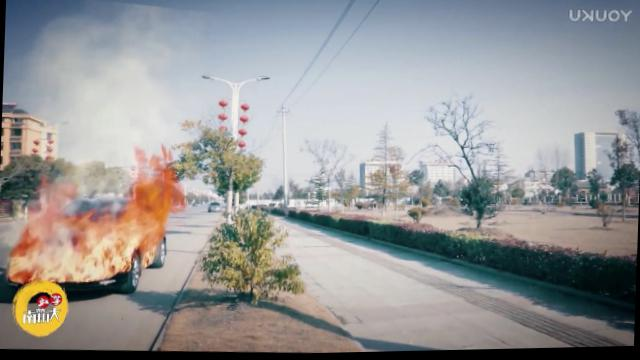fire: (11, 211, 136, 285), (134, 176, 164, 247), (161, 165, 186, 215), (150, 148, 172, 169)
